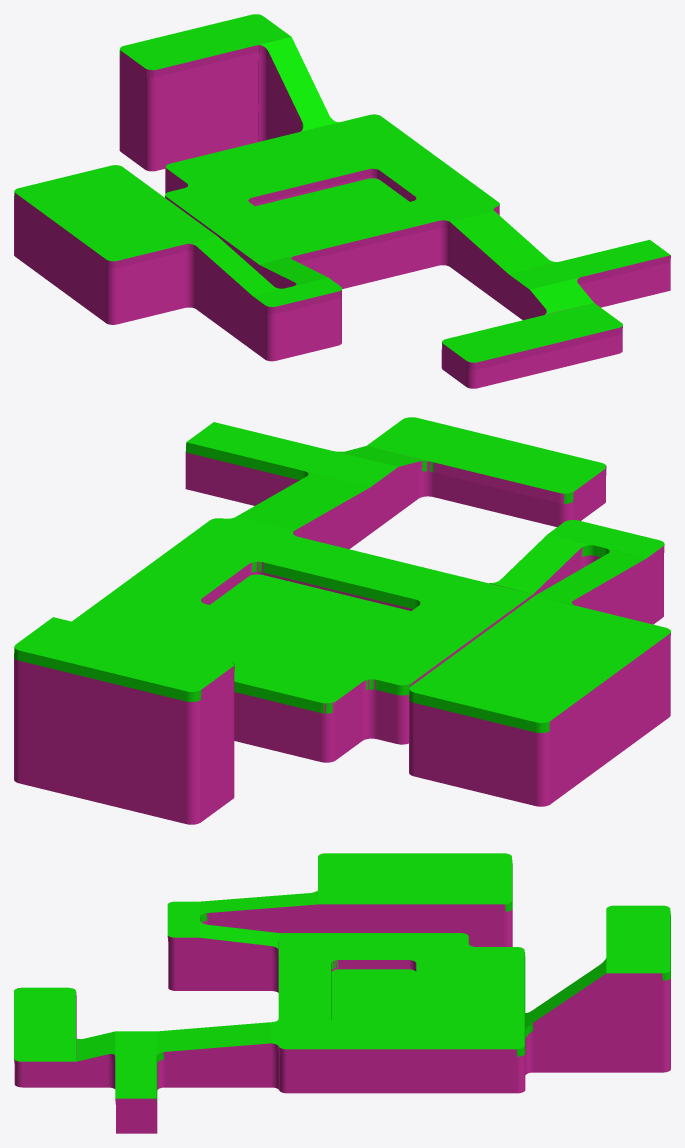
File: CuevaB12.fbx
The picture shows the model from 3 angles, top to bottom: view 1: azimuth 30°, elevation 25°; view 2: azimuth 150°, elevation 25°; view 3: azimuth 270°, elevation 25°; orthographic projection. The views are drawn at different scales.
Visible parts, largest first — view 1: Cube.001; view 2: Cube.001; view 3: Cube.001.
Part boxes in pixels (left/top/right/bottom): Cube.001: left=14, top=14, right=670, bottom=388; Cube.001: left=14, top=417, right=670, bottom=824; Cube.001: left=14, top=853, right=670, bottom=1133.
Size of the model in its own units: 12.73 by 16.22 by 2.7.
